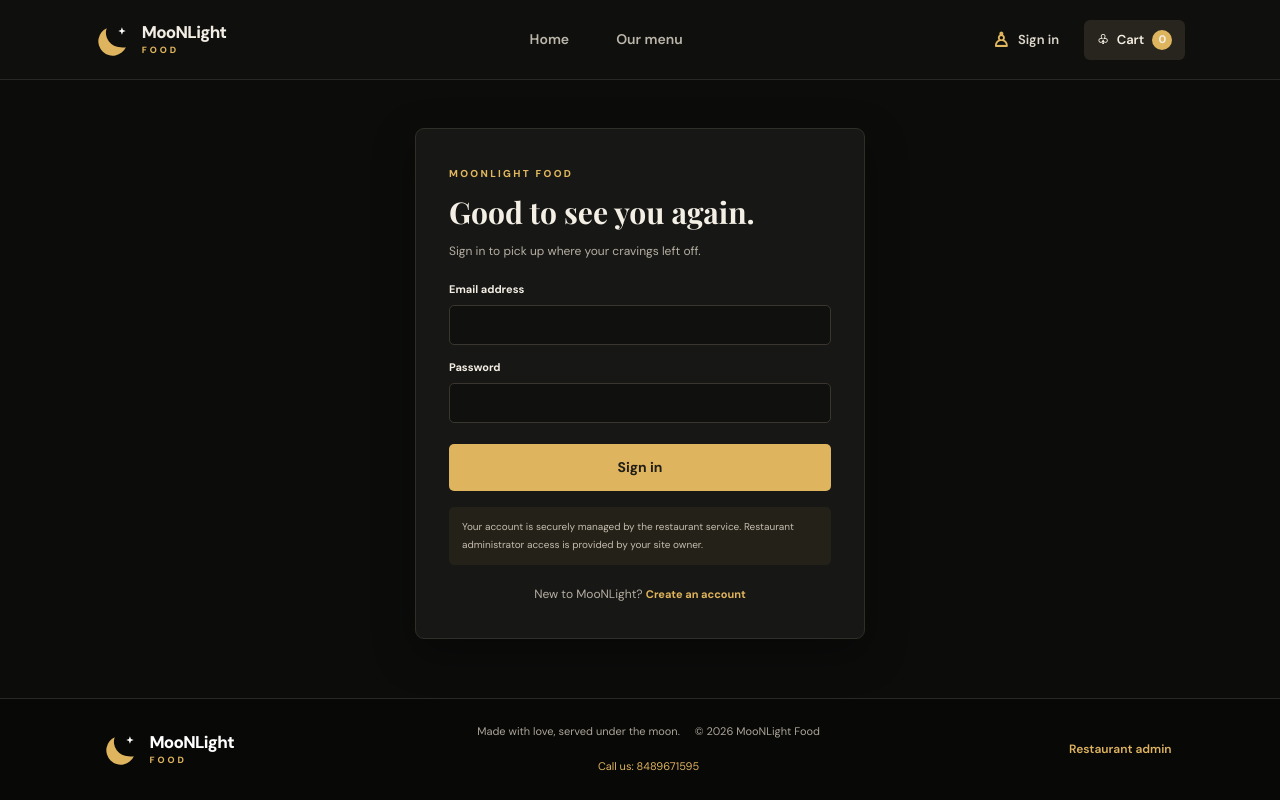
admin order table hides the database order ID
Click the button "Restaurant admin" at (1120, 749), box [1063, 739, 1178, 759]
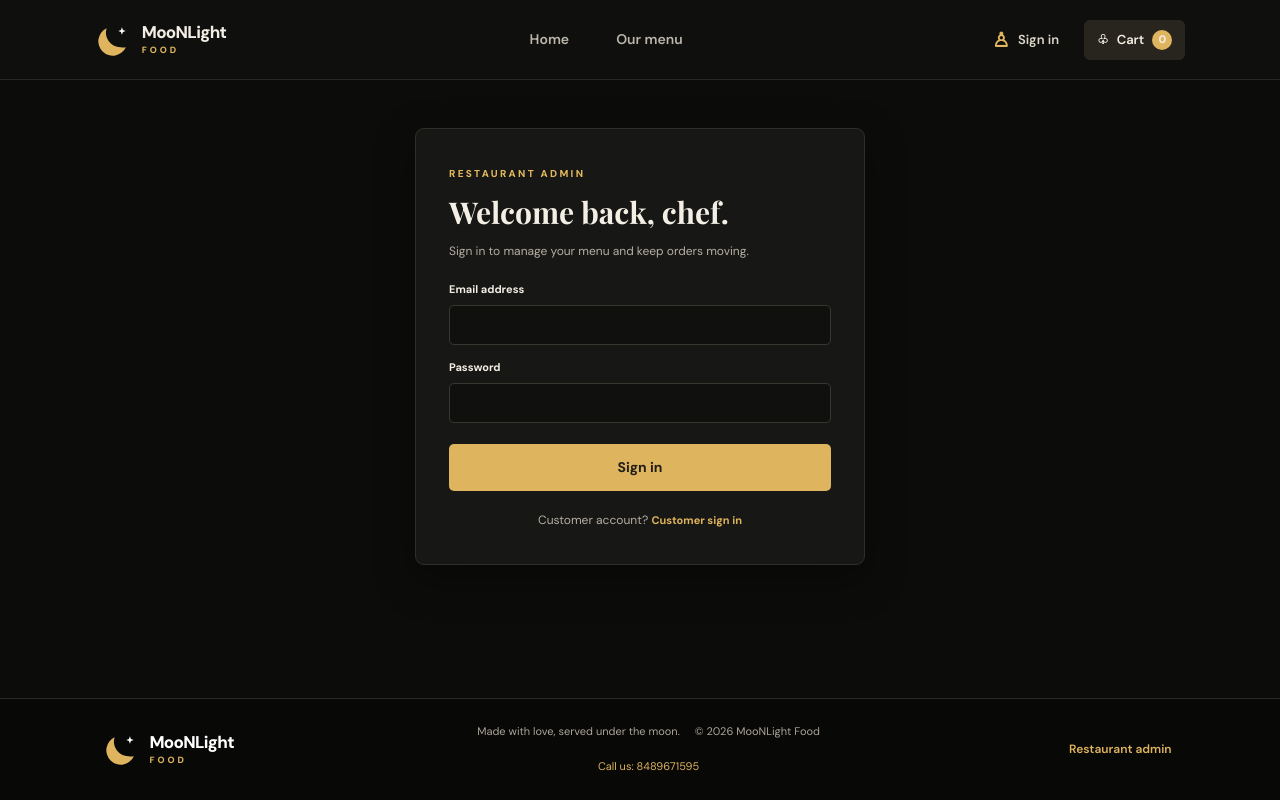
Type "admin@moonlight.com" into the field labelled "Email address" at (640, 325), box [449, 305, 831, 345]
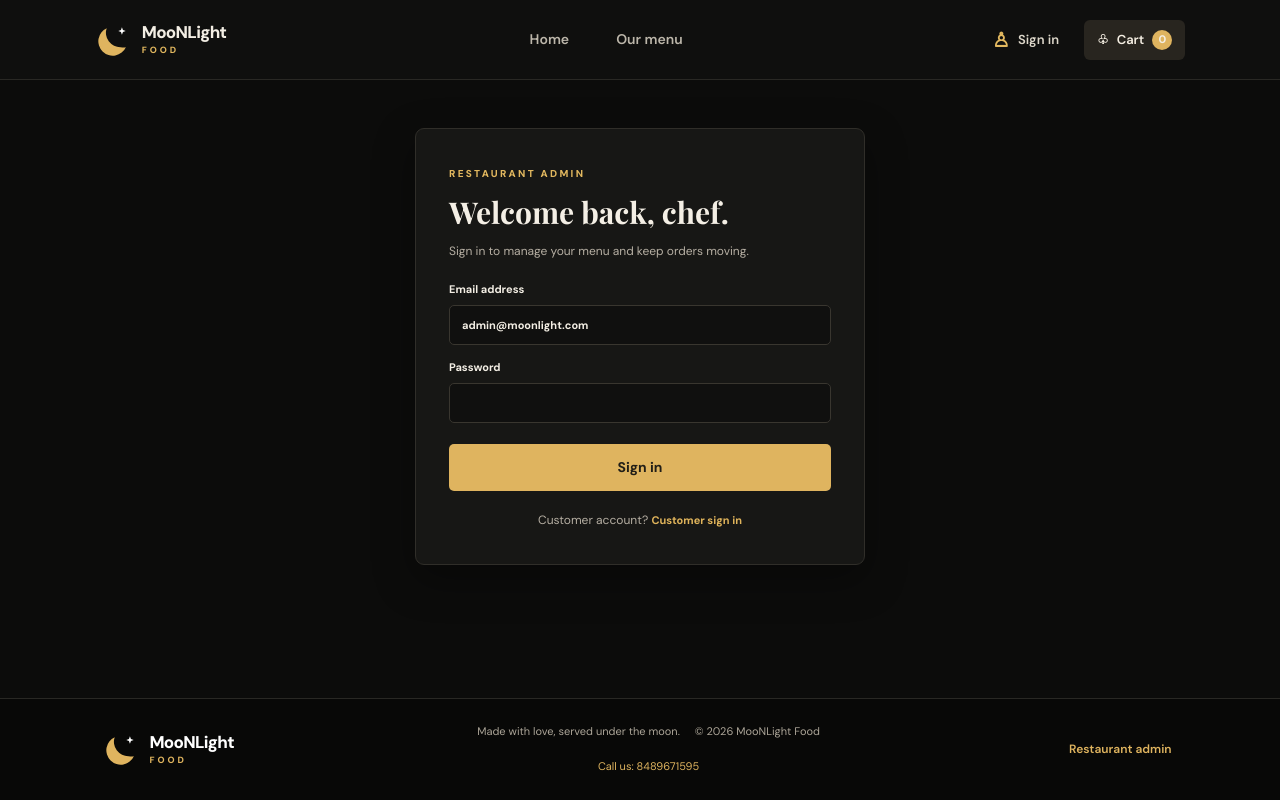
Type "admin-password" into the password field labelled "Password" at (640, 403), box [449, 383, 831, 423]
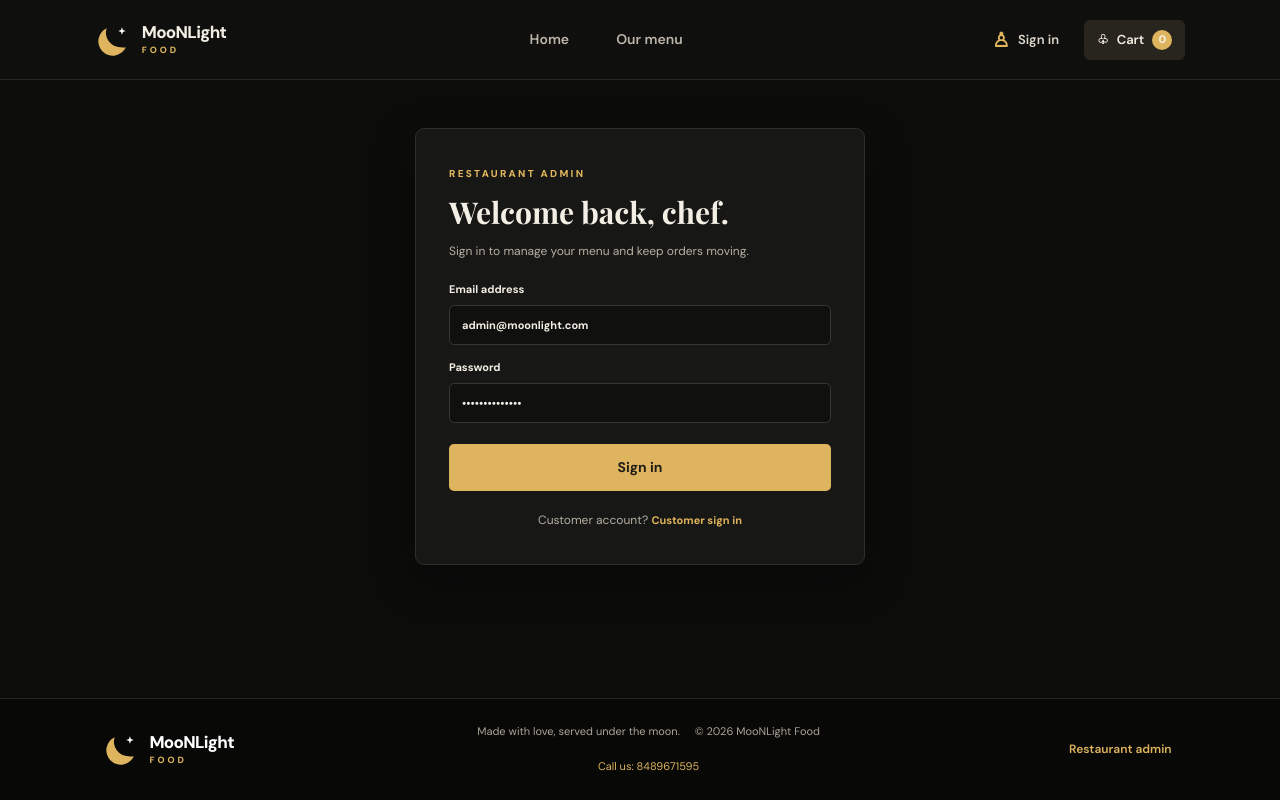
Click the button "Sign in" at (640, 468), box [449, 444, 831, 491]
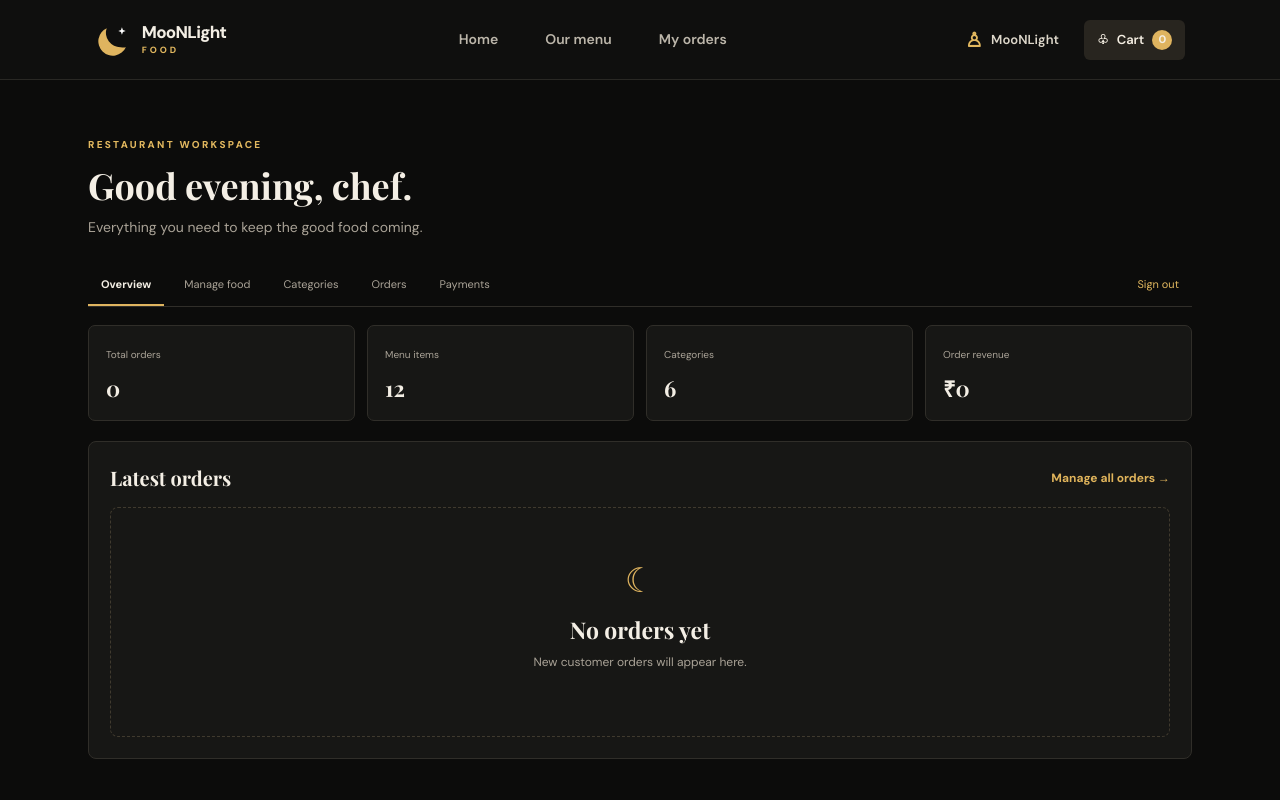
Now the heading "Good evening, chef." is shown, box [88, 161, 412, 209]
Click the button "Orders" at (389, 285), box [358, 265, 420, 306]
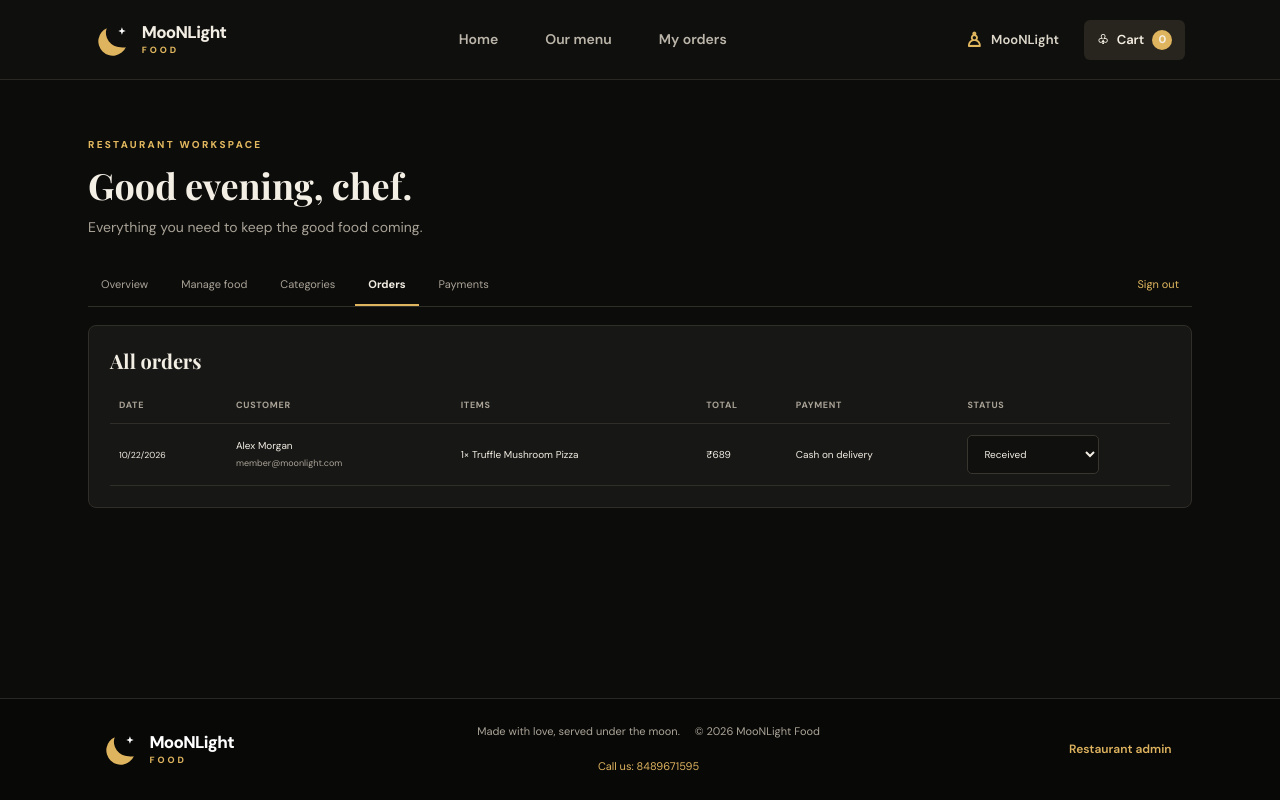
Now the column heading "Date" is shown, box [110, 388, 227, 424]
Now the column heading "Payment" is shown, box [787, 388, 958, 424]
Now the text "Cash on delivery" is shown, box [787, 424, 958, 486]
